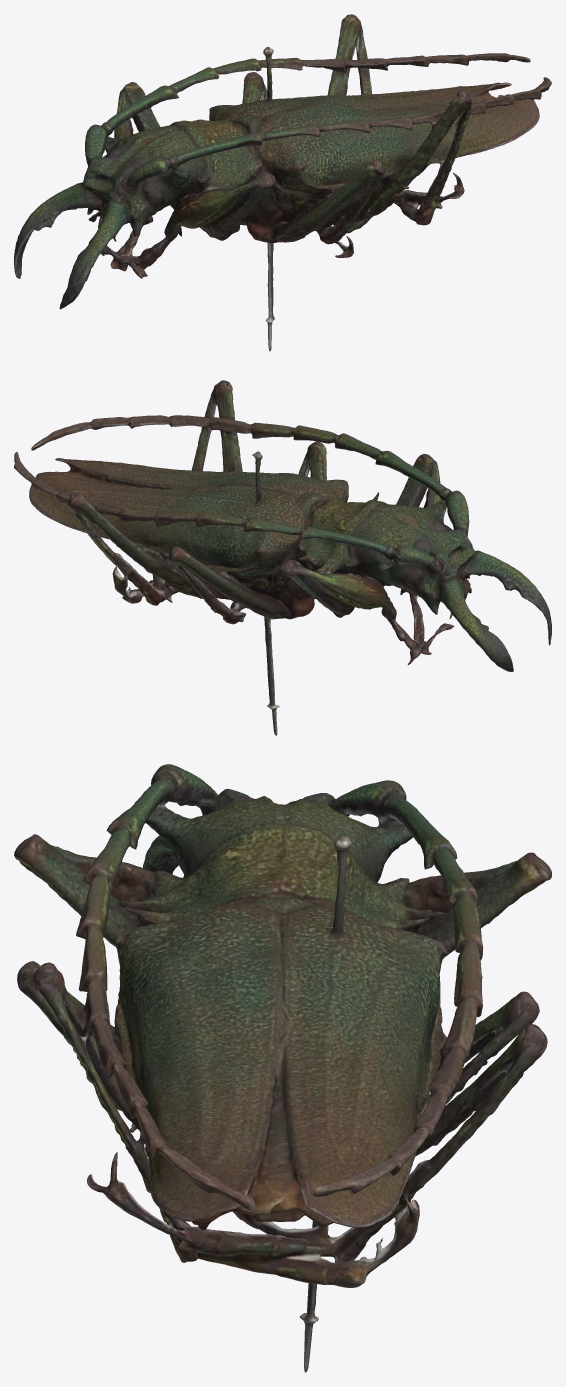
3 views of the same model, one above another, from view 1: azimuth 30°, elevation 25°; view 2: azimuth 150°, elevation 25°; view 3: azimuth 270°, elevation 25° (orthographic). The views are drawn at different scales.
Parts seen in each view (by area): view 1: Psalidognathus_superbus-unwrapped-webmulti; view 2: Psalidognathus_superbus-unwrapped-webmulti; view 3: Psalidognathus_superbus-unwrapped-webmulti.
Part boxes in pixels (x1,y1,x2,y2): Psalidognathus_superbus-unwrapped-webmulti: (14, 14, 551, 351); Psalidognathus_superbus-unwrapped-webmulti: (14, 380, 551, 735); Psalidognathus_superbus-unwrapped-webmulti: (14, 764, 551, 1372).
Size of the model in its own units: 4915 by 2705 by 2423.
1 material, 1 textured.
